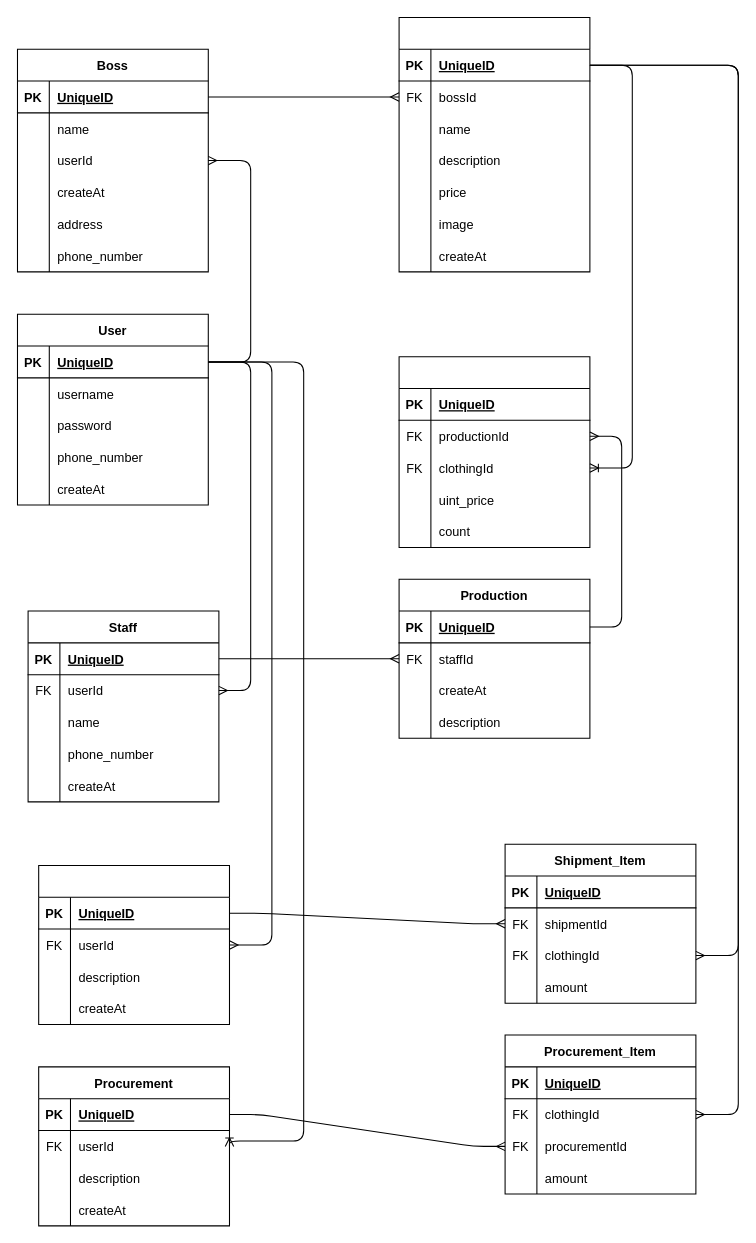
Some shapes in this 756 by 1243 pixel diagram are drawn without their labels. The box of each missing label's shape, as (x1, y1, x2, y2) in pixels:
Clothing: (398, 16, 590, 272)
Production_Item: (398, 356, 590, 547)
Shipment: (38, 864, 229, 1024)
